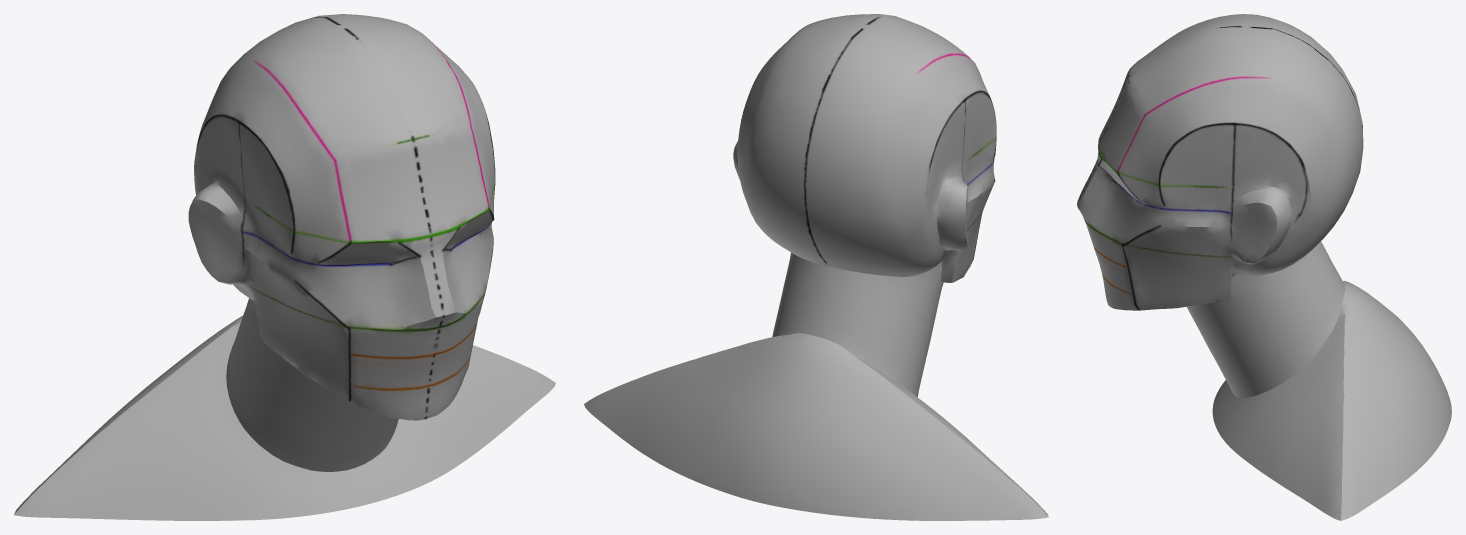
The model's file is 头部分面体_20260324202219.glb.
3 renders of one model, left to right at view 1: azimuth 30°, elevation 25°; view 2: azimuth 150°, elevation 25°; view 3: azimuth 270°, elevation 25°, orthographic. The views are drawn at different scales.
Parts seen in each view (by area): view 1: Helmet_2_LowPoGood; view 2: Helmet_2_LowPoGood; view 3: Helmet_2_LowPoGood.
Part boxes in pixels (x1,y1,x2,y2): Helmet_2_LowPoGood: [14, 14, 555, 520]; Helmet_2_LowPoGood: [584, 14, 1048, 520]; Helmet_2_LowPoGood: [1077, 14, 1451, 520].
Size of the model in its own units: 0.4881 by 0.4 by 0.353.
2 materials, 1 textured.
